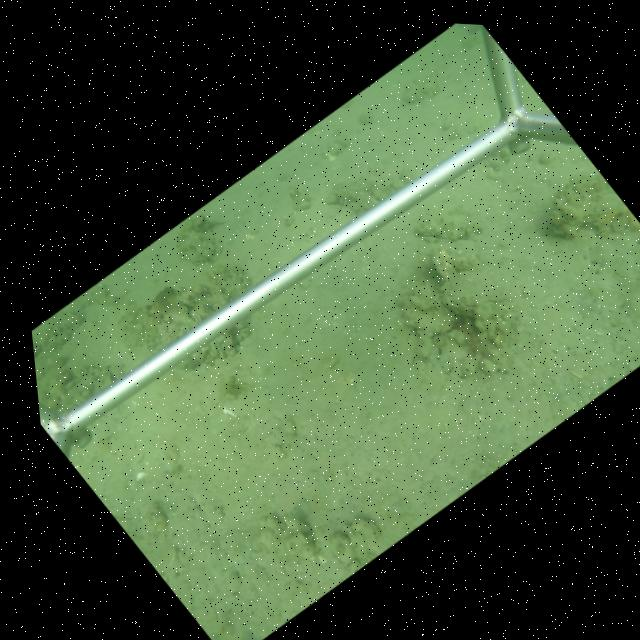Oyster-Closed: (438, 265, 519, 315), (429, 245, 453, 280)
